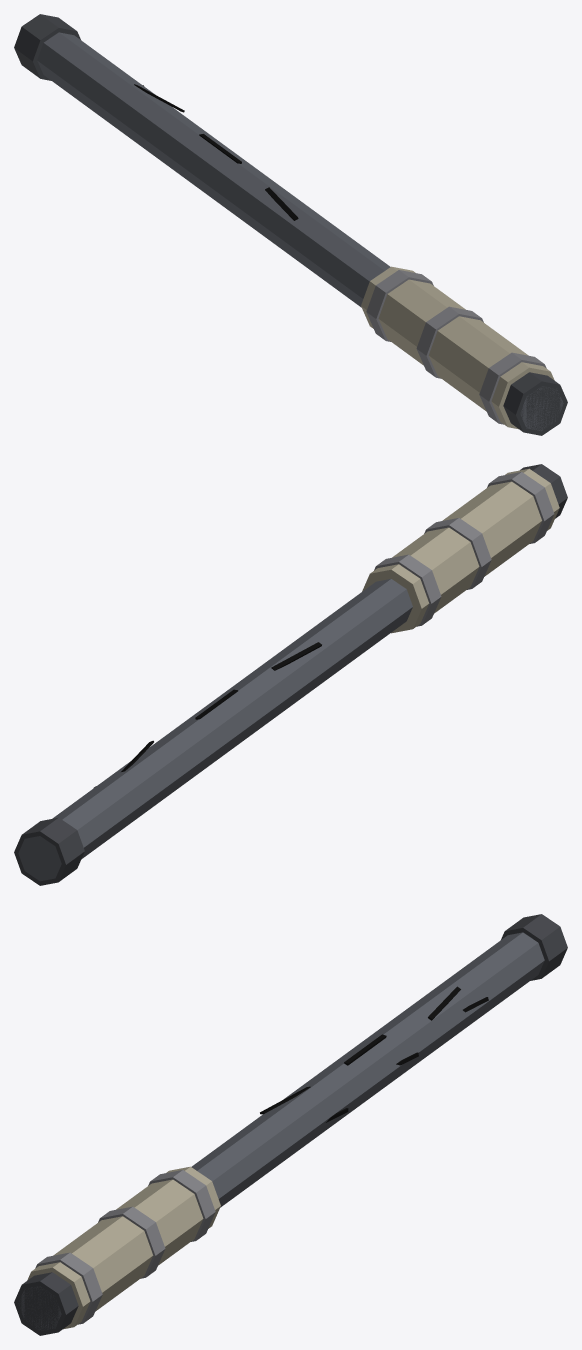
The model's file is pipe_grip_w1.glb.
3 views of the same model, one above another, from view 1: azimuth 30°, elevation 25°; view 2: azimuth 150°, elevation 25°; view 3: azimuth 330°, elevation 25° (orthographic).
Parts seen in each view (by area): view 1: pipe_grip_w1; view 2: pipe_grip_w1; view 3: pipe_grip_w1.
Boxes of the visible parts, x1=… form: pipe_grip_w1: x1=14, y1=14, x2=567, y2=435; pipe_grip_w1: x1=14, y1=464, x2=567, y2=885; pipe_grip_w1: x1=14, y1=914, x2=567, y2=1335.
Size of the model in its own units: 0.06 by 0.06 by 0.8.
